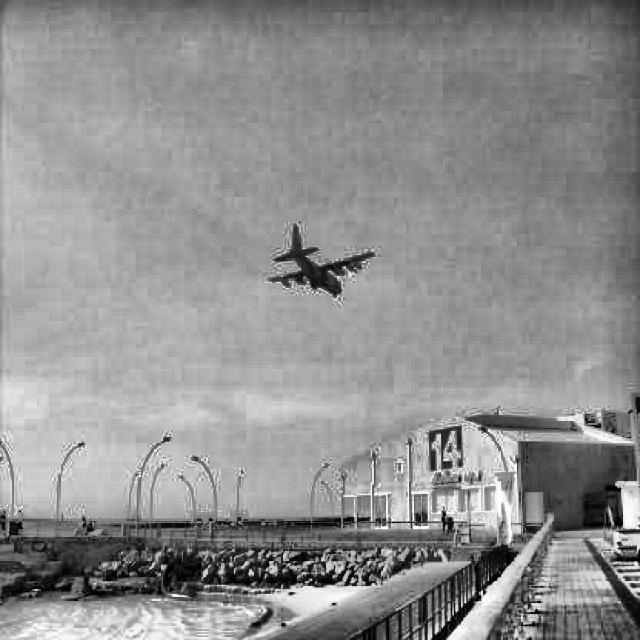C130: (270, 222, 376, 298)
